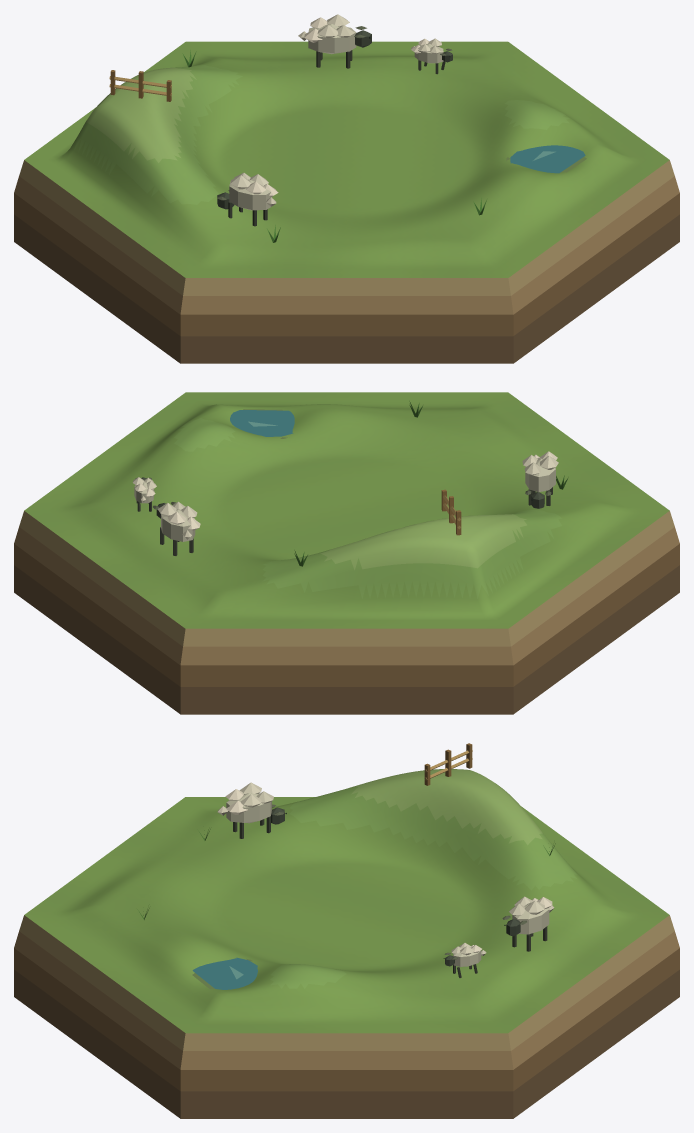
The model's file is catan_terrain_sheep_01.glb.
3 views of the same model, one above another, from view 1: azimuth 30°, elevation 25°; view 2: azimuth 150°, elevation 25°; view 3: azimuth 270°, elevation 25° (orthographic).
Parts seen in each view (by area): view 1: catan_terrain_sheep_01_ground, catan_terrain_sheep_01_decoration; view 2: catan_terrain_sheep_01_ground, catan_terrain_sheep_01_decoration; view 3: catan_terrain_sheep_01_ground, catan_terrain_sheep_01_decoration.
Part boxes in pixels (x1=…): catan_terrain_sheep_01_ground: x1=14, y1=41, x2=679, y2=363; catan_terrain_sheep_01_decoration: x1=109, y1=14, x2=586, y2=242; catan_terrain_sheep_01_ground: x1=14, y1=392, x2=679, y2=714; catan_terrain_sheep_01_decoration: x1=132, y1=401, x2=568, y2=566; catan_terrain_sheep_01_ground: x1=14, y1=769, x2=679, y2=1118; catan_terrain_sheep_01_decoration: x1=137, y1=743, x2=555, y2=989.
Size of the model in its own units: 1.71 by 0.5564 by 1.97.
